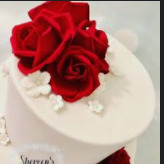RedRose: (48, 39, 112, 102)
